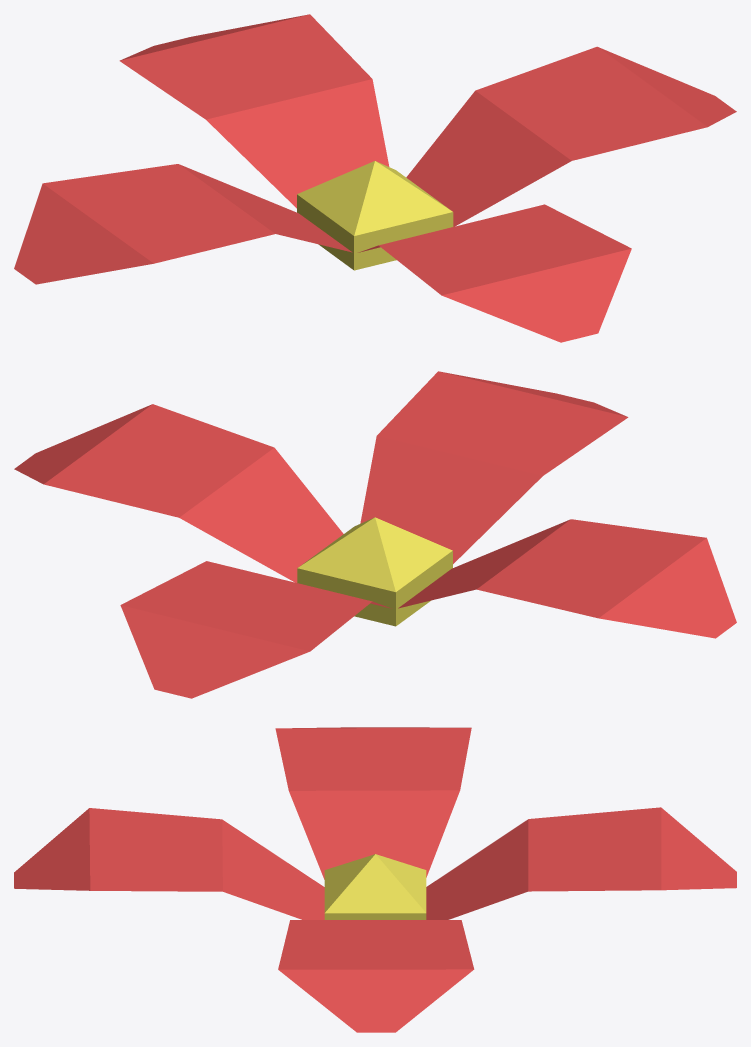
Rendered from Flower_Red_4.fbx.
3 views of the same model, one above another, from view 1: azimuth 30°, elevation 25°; view 2: azimuth 150°, elevation 25°; view 3: azimuth 270°, elevation 25° (orthographic). The views are drawn at different scales.
Visible parts, largest first — view 1: Flower_Red_4; view 2: Flower_Red_4; view 3: Flower_Red_4.
Boxes of the visible parts, <box> form: Flower_Red_4: <box>14,14,736,342</box>; Flower_Red_4: <box>14,371,736,698</box>; Flower_Red_4: <box>14,727,736,1032</box>.
Size of the model in its own units: 35.83 by 4.02 by 35.83.
